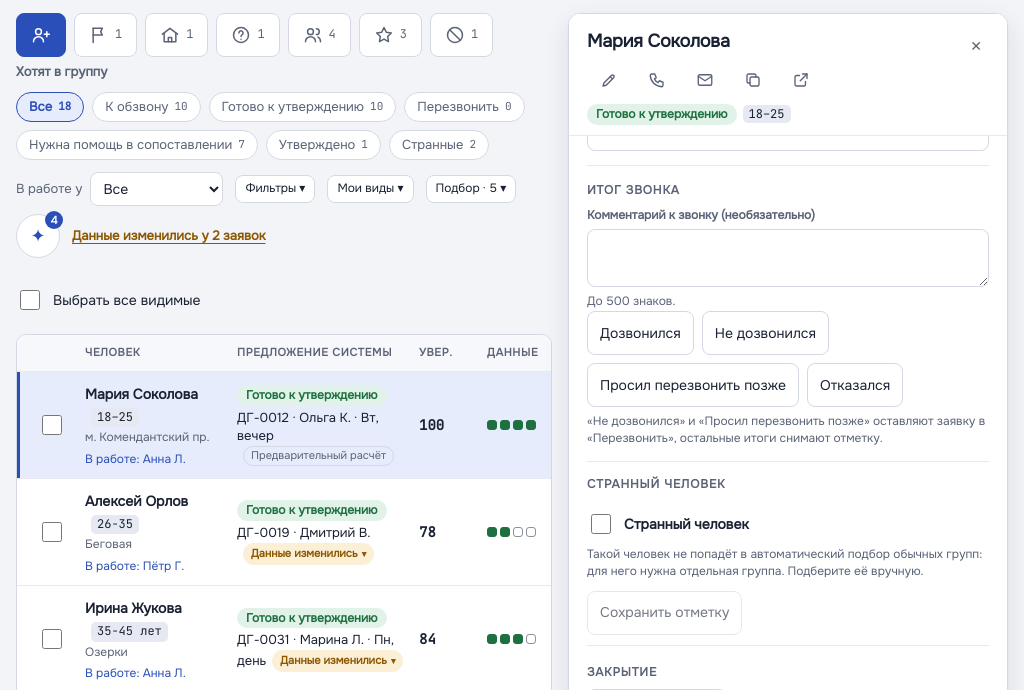
Test case: Карточка заявки: итог звонка › кнопка «Просил перезвонить позже» шлёт result=later и подтверждает «Записано: просил перезвонить позже.»
(page scrolled)
Click the button "Просил перезвонить позже" at (693, 385), box left=587, top=363, right=799, bottom=407
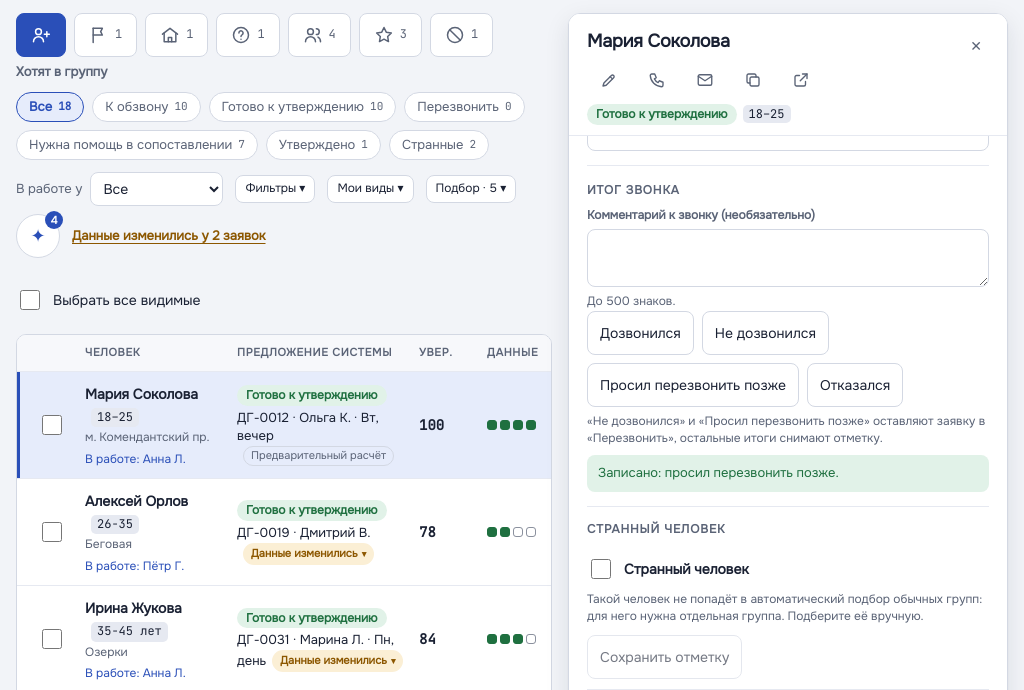
Expected: the text "Записано: просил перезвонить позже." is shown, left=587, top=455, right=989, bottom=492
